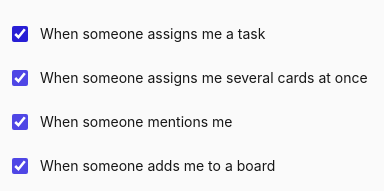
NotificationSettings › shows no toggle at all when the save and the resync both fail
Click the checkbox labelled "When someone assigns me a task" at (20,34), box [12,26,28,42]
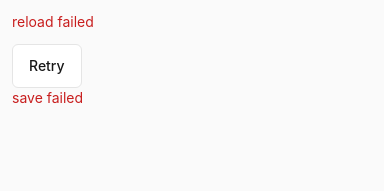
Result: the text labelled "When someone assigns me a task" is gone
Result: the button "Retry" is shown at [12,44,82,88]
Result: the text "save failed" is shown at [12,89,83,106]
